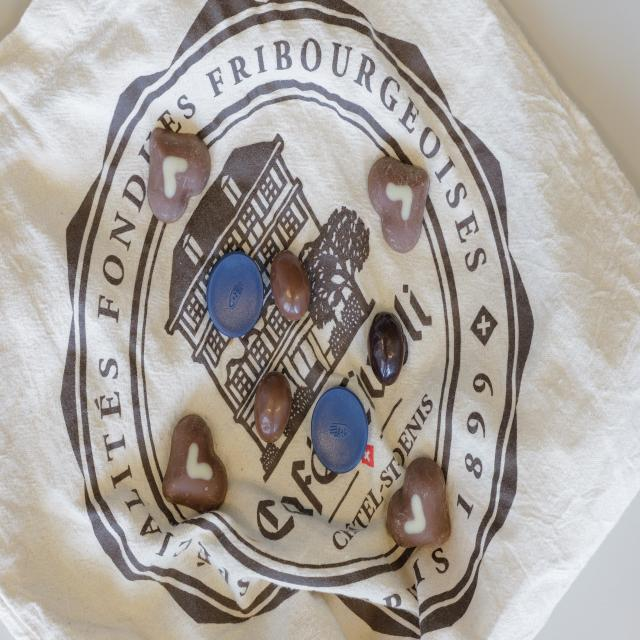Jelly_Black: (369, 309, 408, 390)
Jelly_Milk: (273, 248, 317, 324), (255, 364, 295, 440)
Passion_au_lait: (163, 410, 228, 508), (146, 125, 209, 218), (390, 456, 452, 549), (372, 158, 430, 248)
